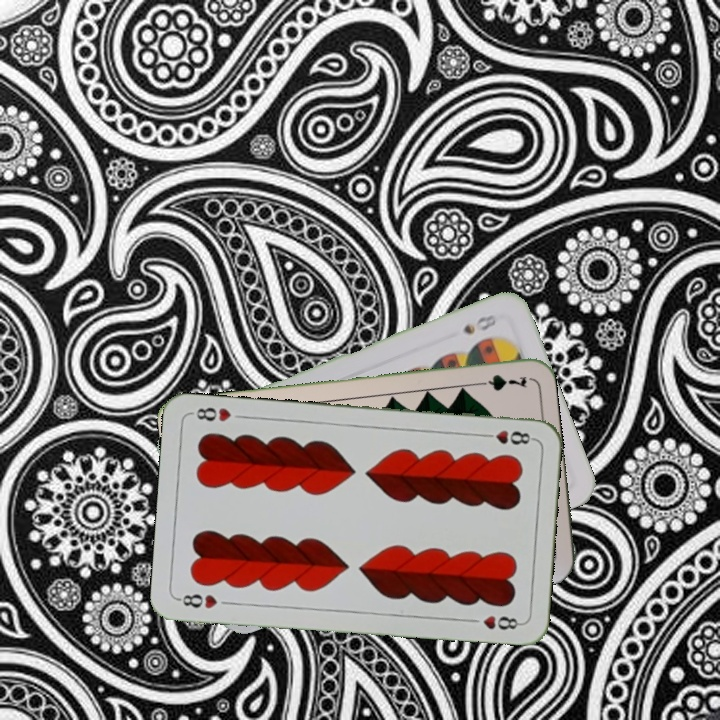G7: (470, 371, 529, 393)
H8: (477, 426, 536, 448), (175, 590, 220, 611)
S8: (459, 310, 499, 337)
